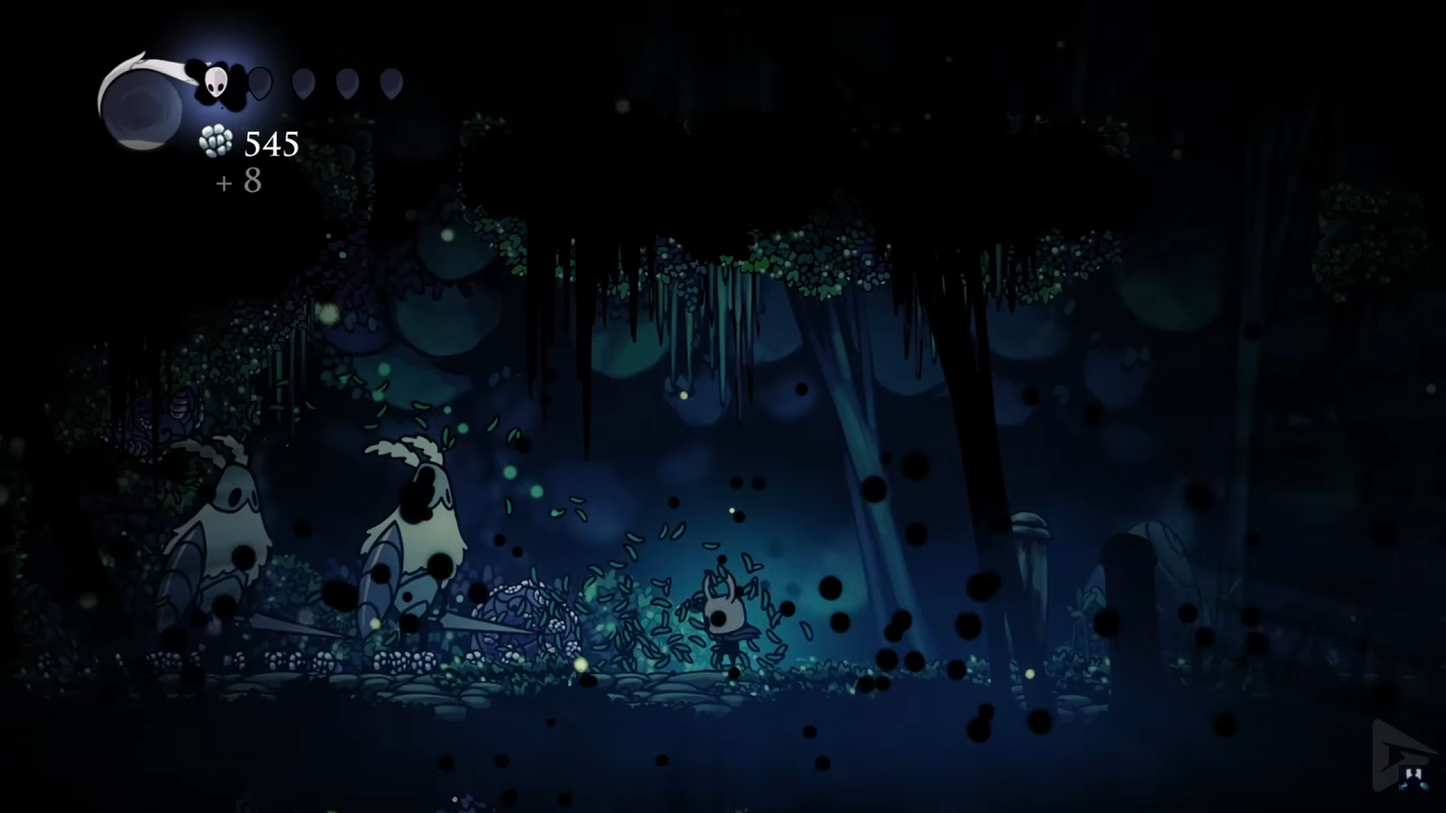HK: (700, 573, 752, 679)
